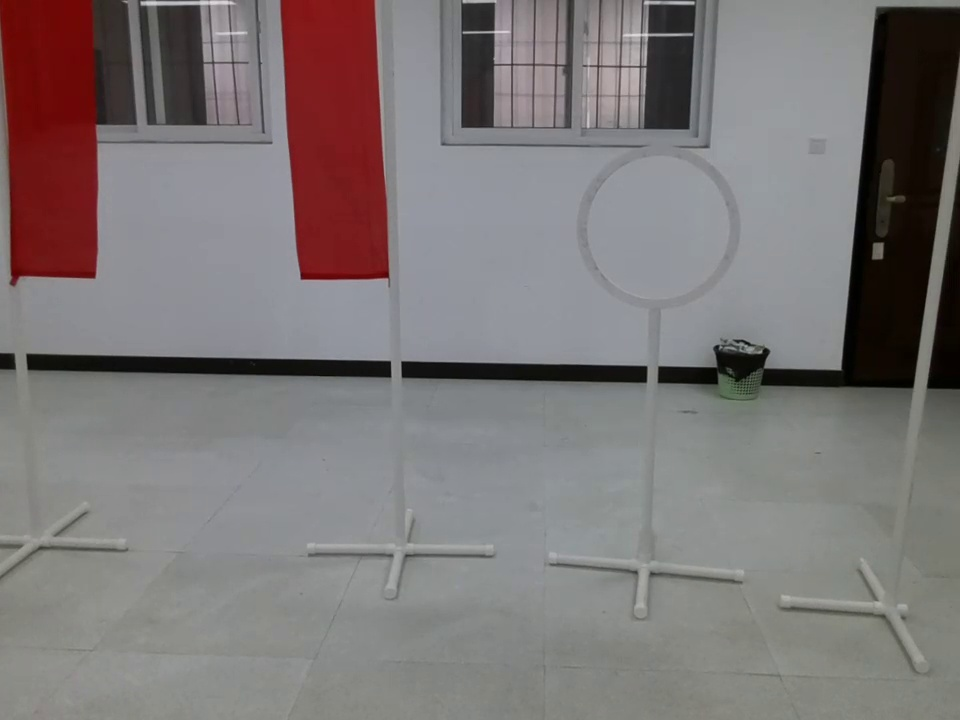qi: (278, 3, 404, 312), (2, 2, 100, 333)
quan: (573, 142, 747, 334)
